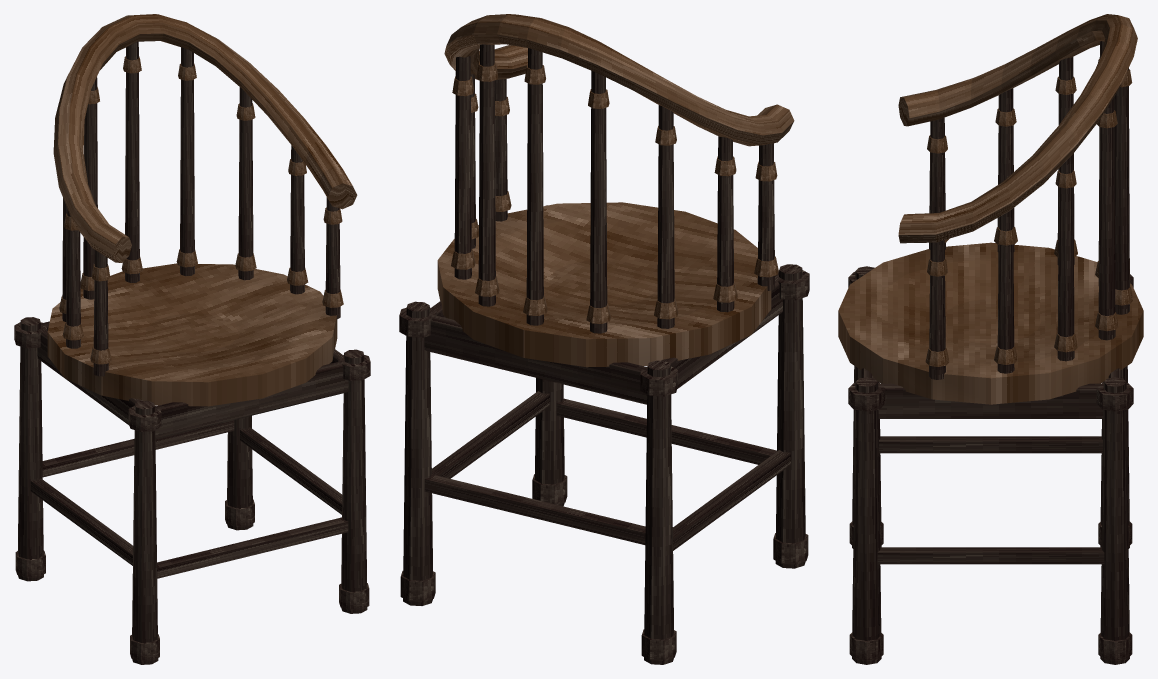
The model's file is chair_static.glb.
3 renders of one model, left to right at view 1: azimuth 30°, elevation 25°; view 2: azimuth 150°, elevation 25°; view 3: azimuth 270°, elevation 25°, orthographic. The views are drawn at different scales.
Visible parts, largest first — view 1: chair_static; view 2: chair_static; view 3: chair_static.
Boxes of the visible parts, x1,y1,x2,y2 form: chair_static: (14,14,370,664); chair_static: (399,14,809,664); chair_static: (838,14,1143,664).
Bounding box in the file's own units: 0.4585 × 0.9 × 0.43.
2 materials, 2 textured.
